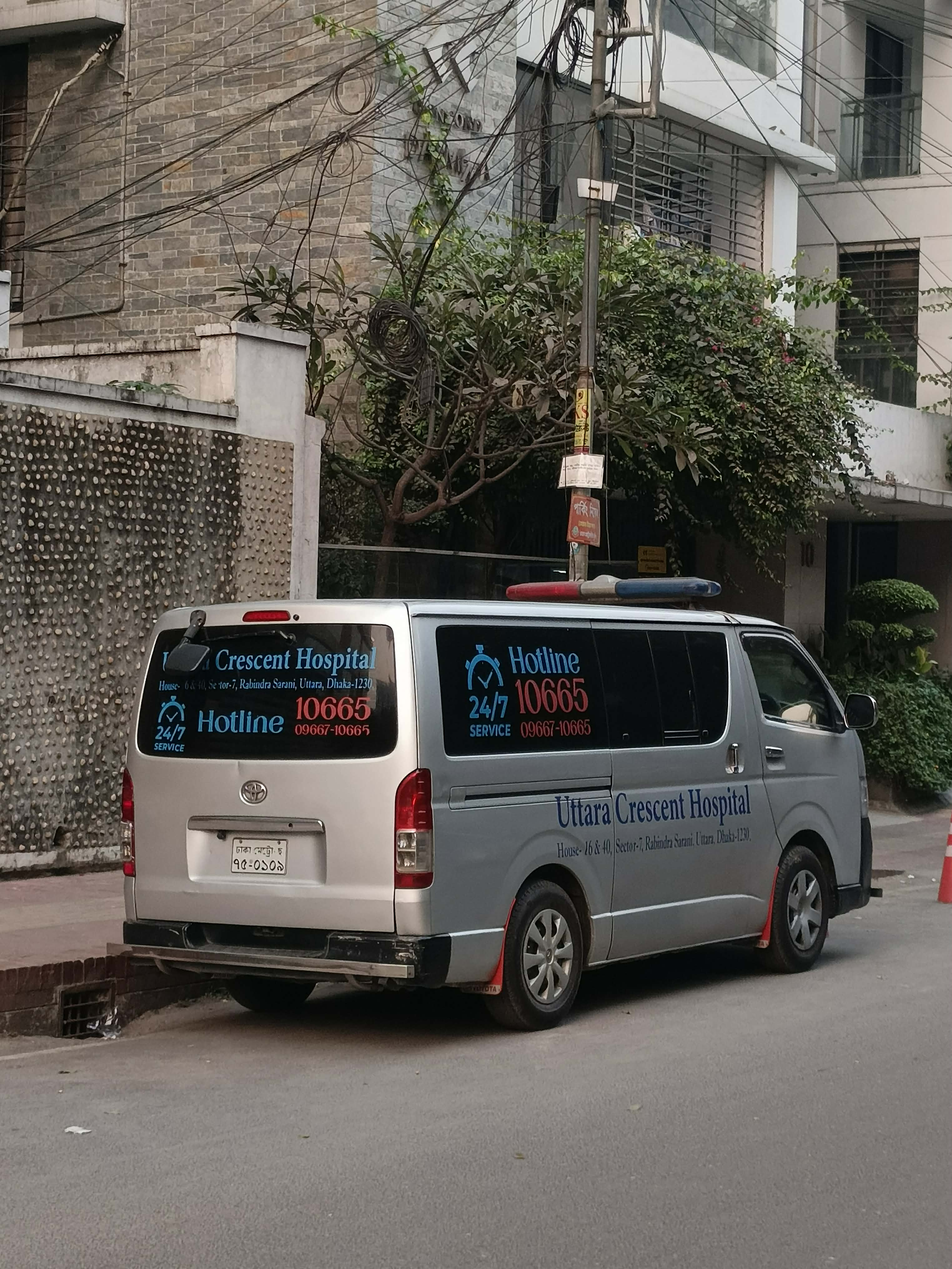Ambulance: (100, 569, 891, 1043)
